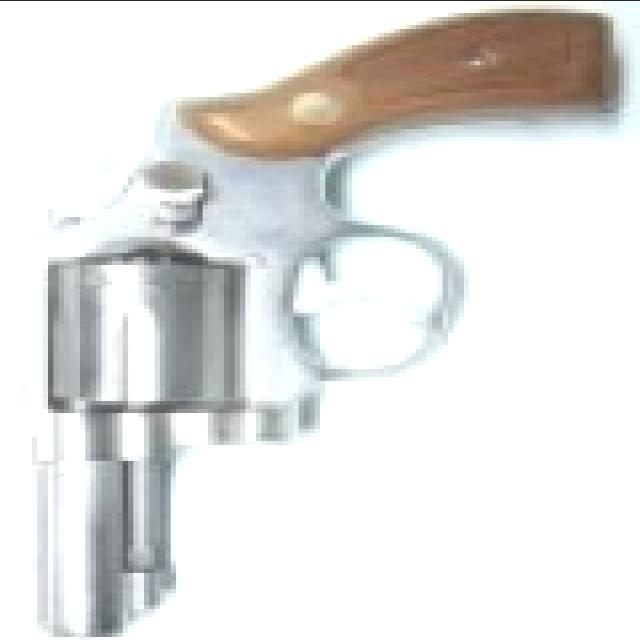handgun: (11, 16, 624, 628)
